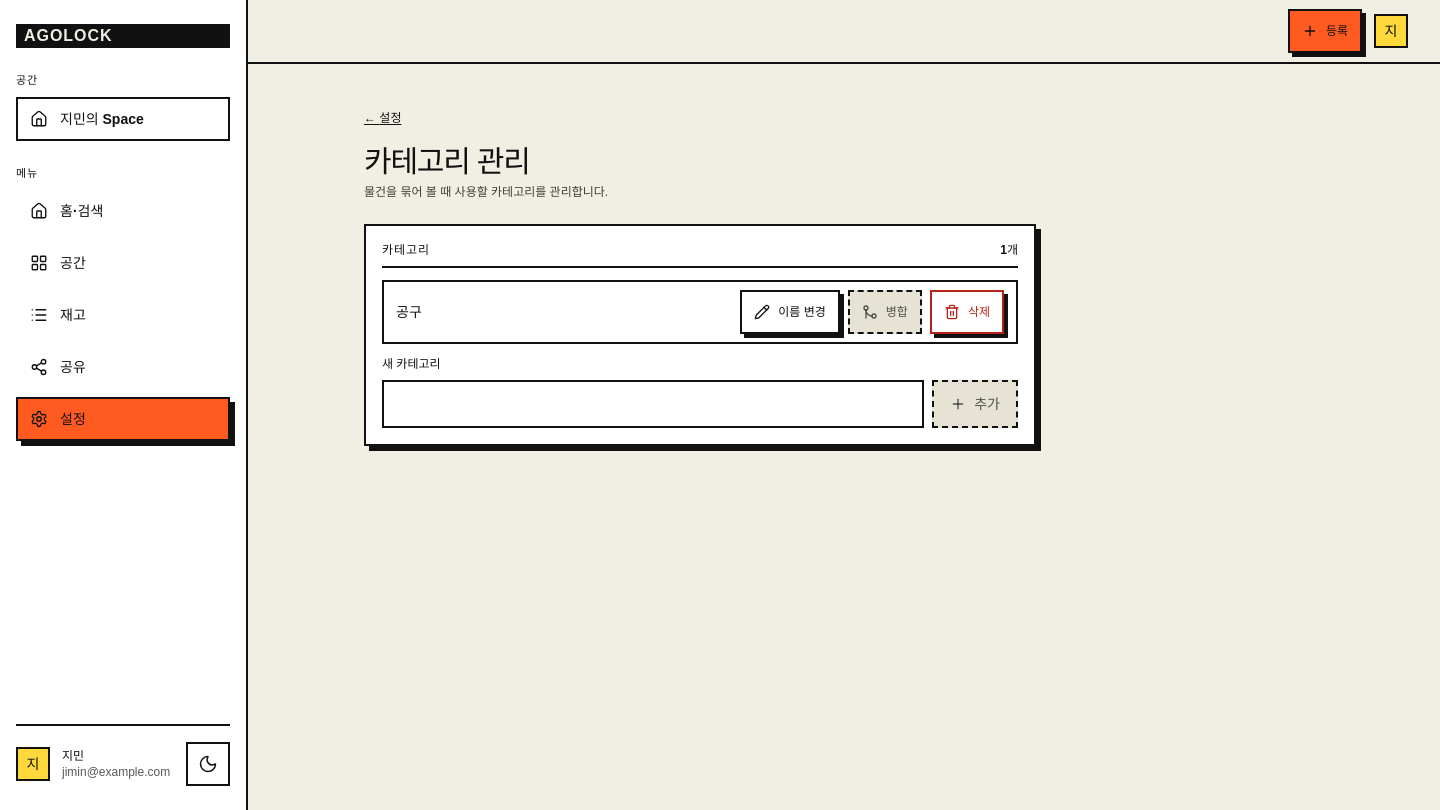
카테고리 관리 › 카테고리를 만들고 삭제 확인을 연다
Expected: the heading "카테고리 관리" is shown, x1=364 y1=145 x2=530 y2=178
Expected: the text "공구" is shown, x1=396 y1=302 x2=422 y2=322
In the field labelled "새 카테고리": (653, 404) x1=382 y1=380 x2=924 y2=428, type "캠핑"
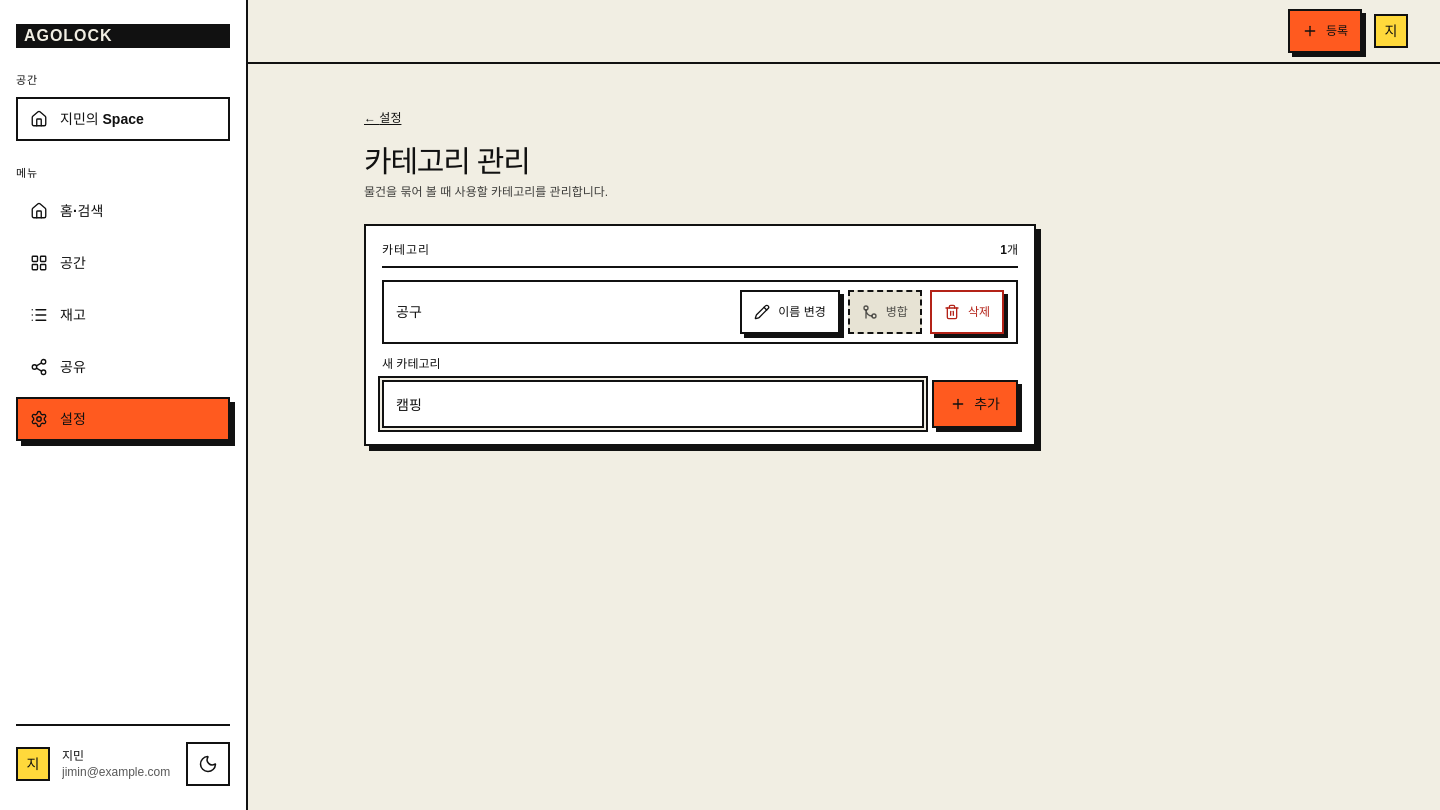
Click the button "추가": click(975, 404) x1=932 y1=380 x2=1018 y2=428
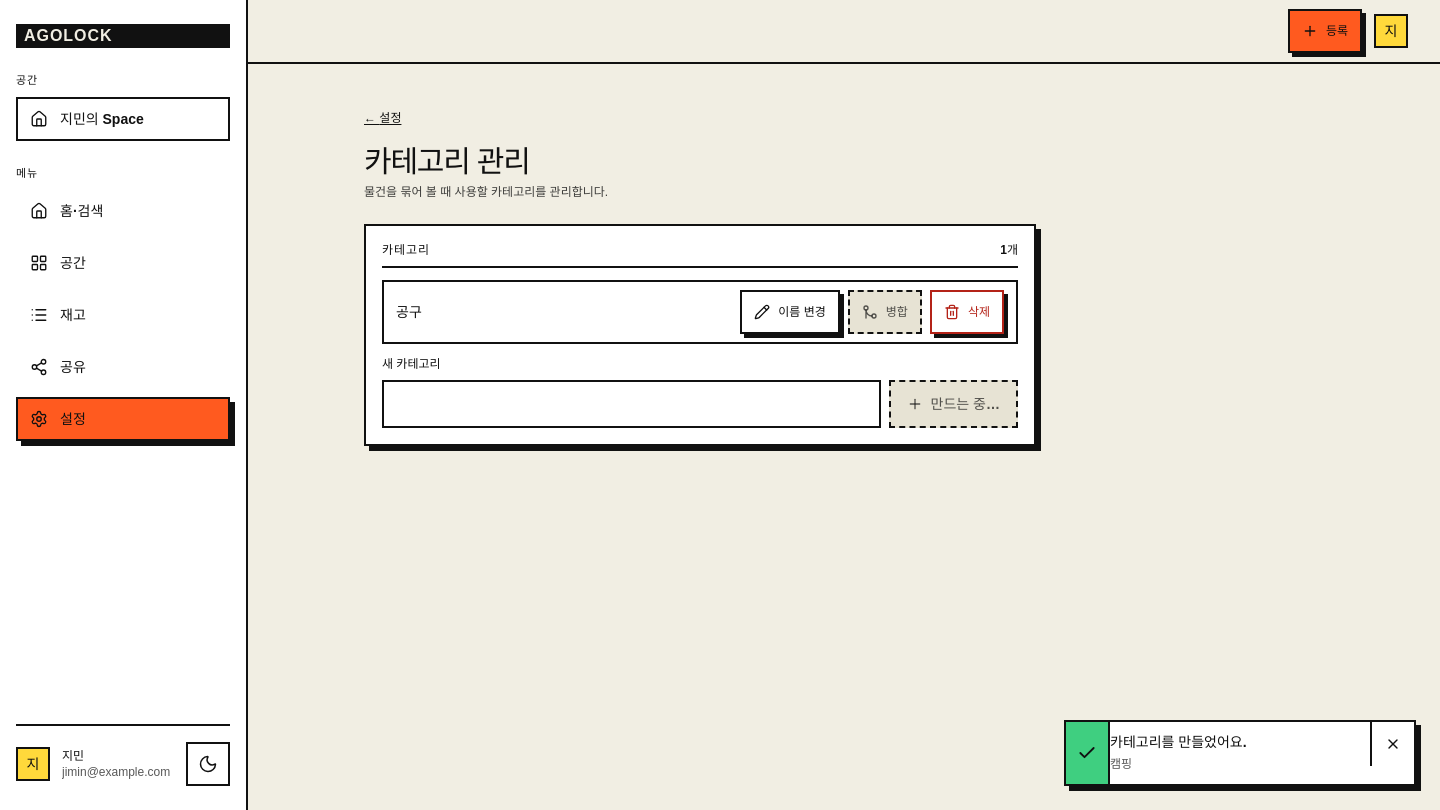
Click the button with aria-label "공구 삭제": click(967, 312) x1=930 y1=290 x2=1004 y2=334
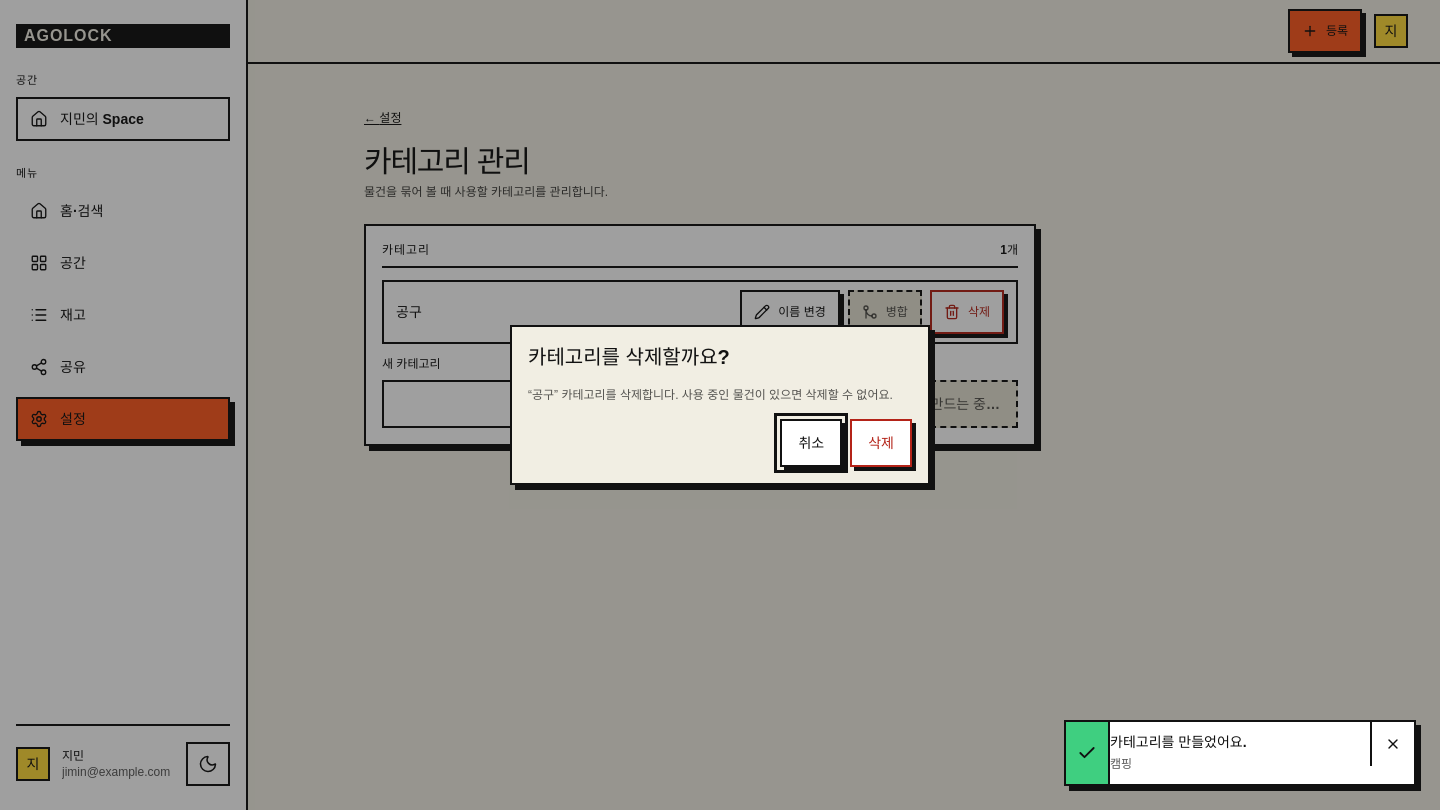
Result: the heading "카테고리를 삭제할까요?" is shown at x1=528 y1=346 x2=730 y2=368
